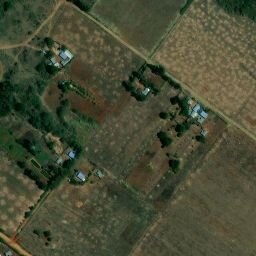tree: (44, 37, 55, 49), (159, 137, 173, 146), (42, 50, 56, 59), (168, 159, 180, 169), (62, 159, 74, 169), (175, 123, 185, 132), (158, 111, 168, 119), (157, 131, 167, 139), (195, 135, 205, 142), (43, 230, 51, 237), (33, 229, 40, 235)
